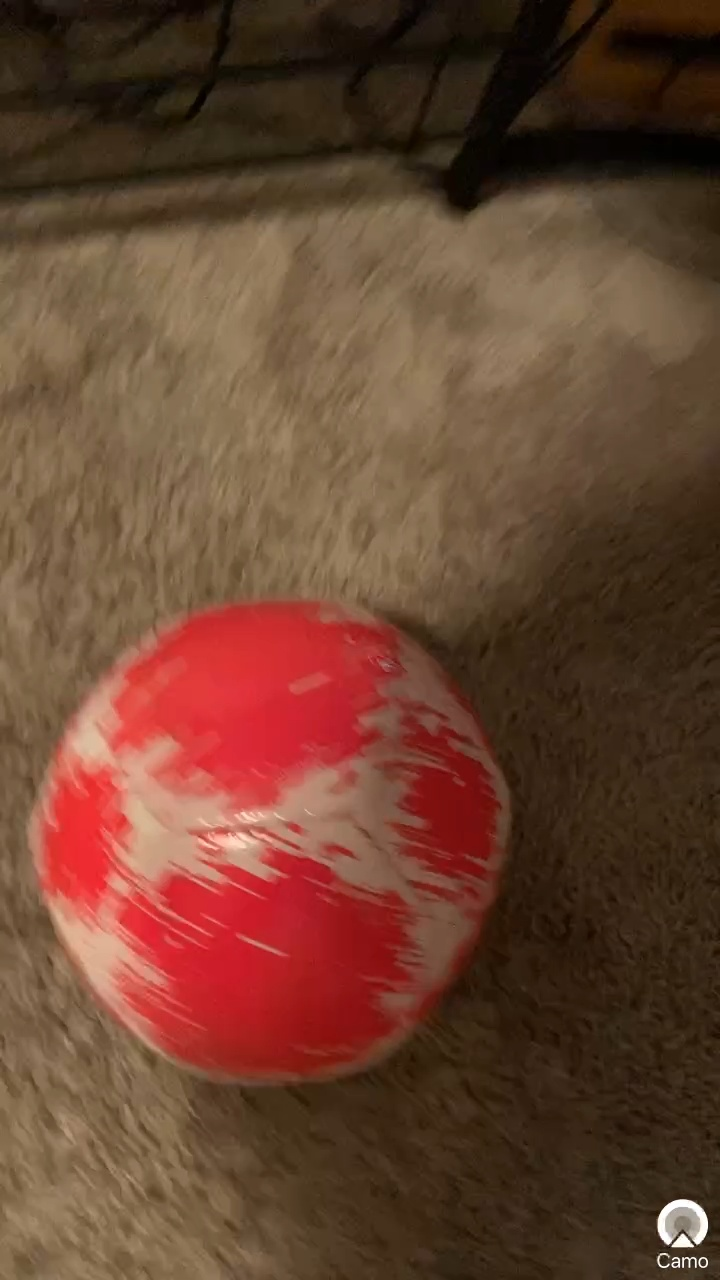Soccer_Ball: (19, 582, 536, 1102)
